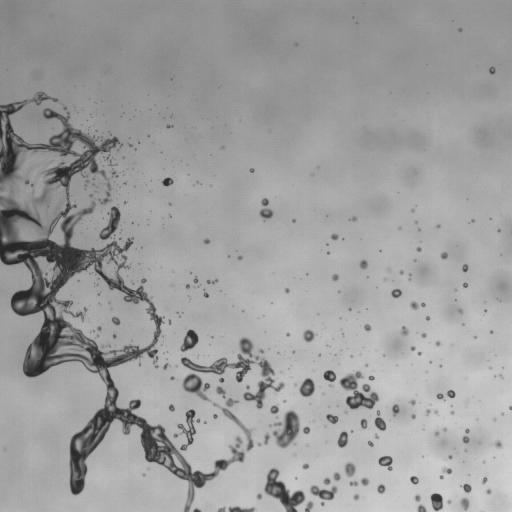droplet: (339, 371, 379, 409), (271, 409, 299, 448), (310, 485, 337, 505), (180, 329, 198, 351), (259, 198, 273, 220), (299, 378, 314, 397), (430, 493, 443, 511), (323, 370, 336, 387), (378, 456, 392, 470), (337, 431, 347, 447), (303, 329, 315, 342), (344, 462, 355, 476), (326, 414, 338, 423), (162, 177, 173, 186), (216, 386, 225, 397), (460, 497, 468, 509), (391, 289, 401, 298), (461, 483, 471, 492), (400, 326, 409, 335), (305, 501, 313, 511), (392, 404, 399, 415), (111, 317, 120, 325), (270, 404, 278, 413), (493, 440, 502, 448), (377, 484, 385, 493), (360, 419, 367, 429), (417, 504, 427, 511), (410, 476, 418, 484), (446, 390, 455, 397), (442, 467, 451, 474), (333, 472, 340, 481), (360, 478, 369, 485), (360, 260, 367, 268), (331, 233, 338, 240), (440, 252, 447, 259), (437, 393, 444, 400), (462, 436, 469, 443), (489, 67, 495, 74), (111, 169, 117, 176), (462, 264, 468, 271), (364, 324, 371, 330), (302, 463, 309, 469), (323, 478, 330, 484), (414, 494, 420, 501), (349, 481, 357, 486), (332, 274, 338, 280), (163, 363, 169, 369), (303, 427, 309, 433), (256, 493, 262, 499), (353, 494, 359, 500), (169, 404, 174, 411), (350, 216, 356, 221), (482, 477, 487, 483), (24, 179, 29, 184), (410, 399, 415, 404), (368, 441, 373, 446), (486, 489, 491, 494), (194, 277, 198, 283), (173, 433, 179, 437), (249, 168, 254, 172), (204, 239, 209, 243), (416, 247, 421, 251), (463, 282, 467, 287), (285, 288, 289, 293), (204, 292, 208, 297), (421, 333, 426, 337), (435, 341, 440, 345), (410, 346, 415, 350), (219, 378, 224, 382), (426, 409, 430, 414), (166, 125, 172, 128), (97, 326, 101, 330), (259, 349, 263, 353), (369, 376, 373, 380), (434, 410, 438, 414), (213, 414, 217, 418), (411, 414, 415, 418), (465, 429, 469, 433), (435, 431, 439, 435), (85, 179, 88, 184), (436, 224, 440, 227), (400, 270, 403, 274), (186, 284, 189, 288), (459, 309, 462, 313), (426, 316, 429, 320), (170, 376, 173, 380), (448, 455, 451, 459), (238, 256, 241, 259), (168, 320, 171, 323), (286, 333, 289, 336), (196, 419, 199, 422), (443, 428, 446, 431), (375, 435, 378, 438), (257, 443, 260, 446), (440, 475, 443, 478), (447, 500, 450, 503), (509, 406, 511, 410), (459, 28, 461, 31), (129, 143, 131, 146), (113, 335, 116, 337), (418, 352, 420, 355), (489, 366, 491, 369), (246, 386, 249, 388), (451, 411, 453, 414), (64, 107, 66, 109), (412, 209, 414, 211), (327, 252, 329, 254), (408, 277, 410, 279), (500, 375, 502, 377)
ligament: (0, 99, 284, 511), (264, 468, 305, 511), (374, 411, 386, 430), (217, 506, 255, 511), (104, 155, 115, 167), (410, 301, 425, 309), (264, 433, 269, 444), (207, 279, 217, 283), (193, 508, 201, 511)
